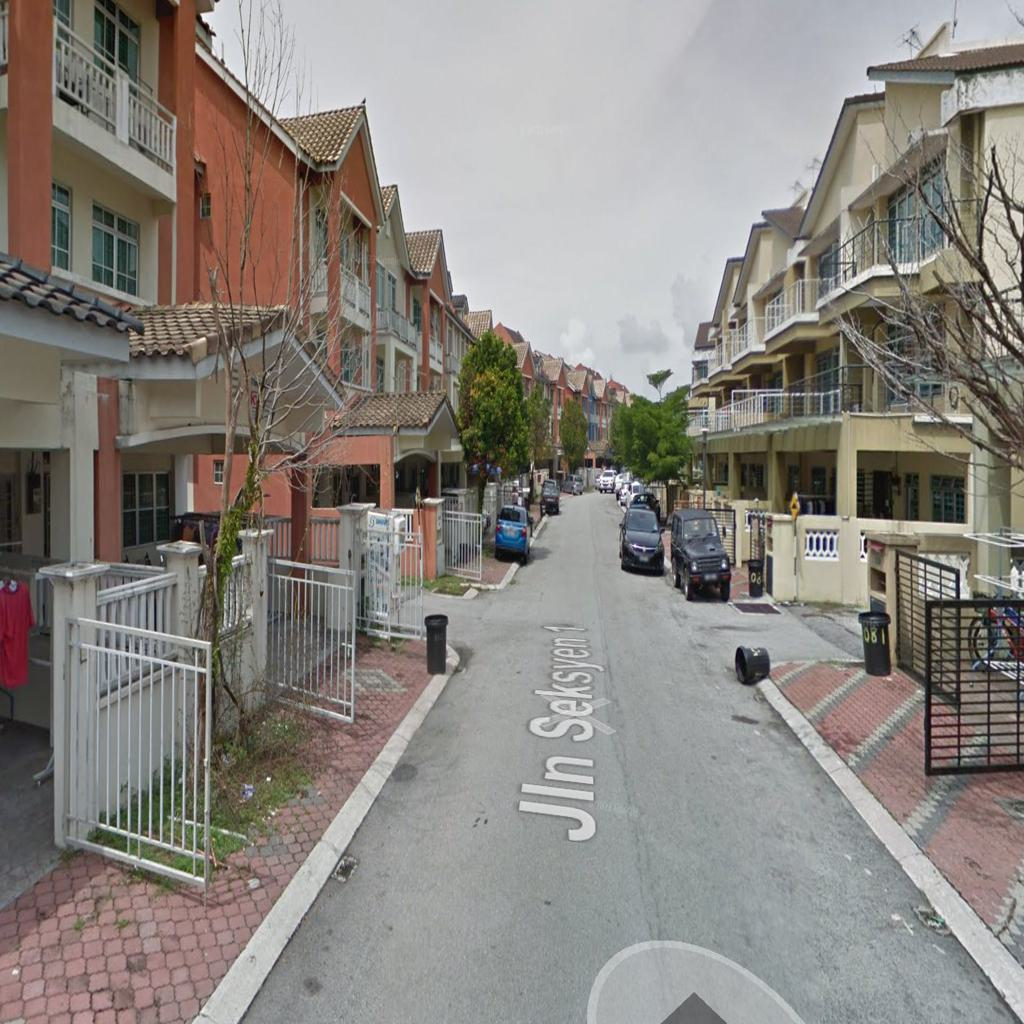Junction: (699, 570, 890, 704), (407, 566, 528, 674)
